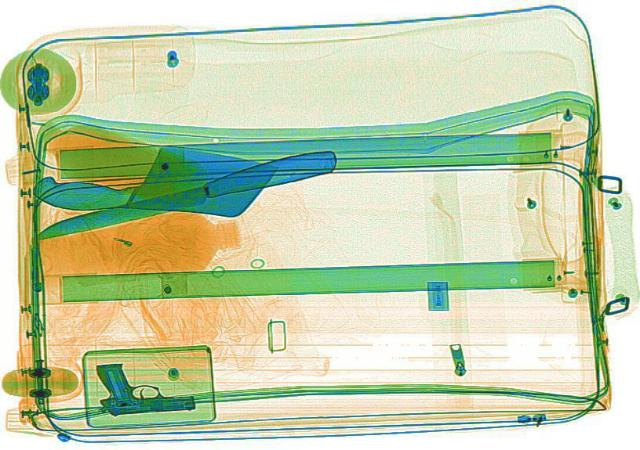Gun: (90, 356, 196, 414)
Knife: (21, 141, 350, 249), (24, 128, 280, 232)
